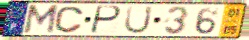3: (160, 5, 192, 36)
6: (194, 6, 220, 36)
C: (53, 5, 85, 34)
M: (22, 3, 61, 36)
P: (89, 5, 123, 36)
U: (122, 5, 155, 35)
